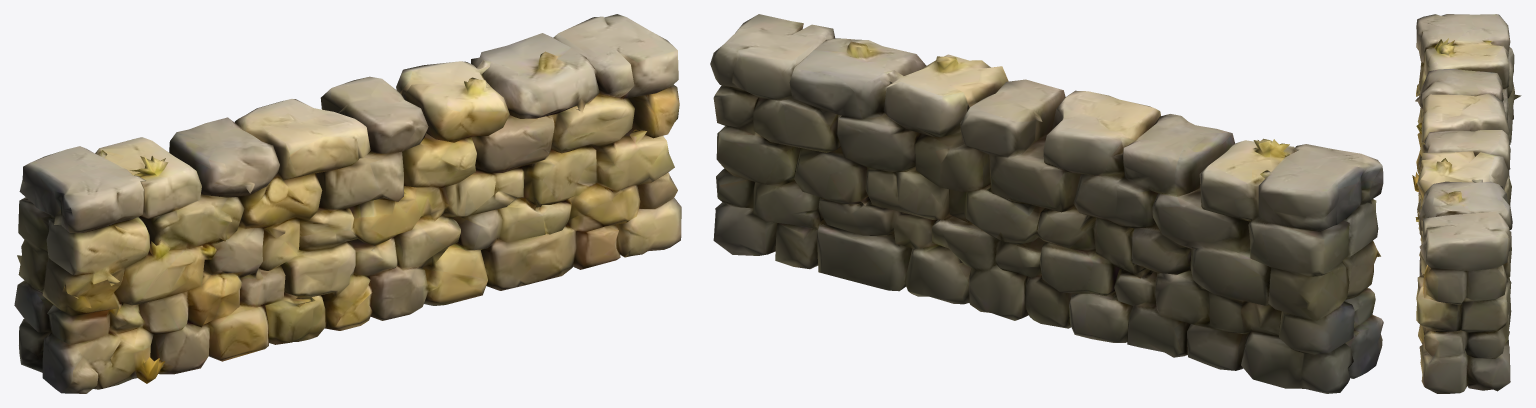
File: wall.glb
3 views of the same model, side by side, from view 1: azimuth 30°, elevation 25°; view 2: azimuth 150°, elevation 25°; view 3: azimuth 270°, elevation 25° (orthographic). The views are drawn at different scales.
Parts seen in each view (by area): view 1: tripo_node_cdea1cba-6e03-4b7f-9dc0-3abe8c072214; view 2: tripo_node_cdea1cba-6e03-4b7f-9dc0-3abe8c072214; view 3: tripo_node_cdea1cba-6e03-4b7f-9dc0-3abe8c072214.
Part boxes in pixels (<box>): tripo_node_cdea1cba-6e03-4b7f-9dc0-3abe8c072214: <box>14,14,681,393</box>; tripo_node_cdea1cba-6e03-4b7f-9dc0-3abe8c072214: <box>710,14,1383,393</box>; tripo_node_cdea1cba-6e03-4b7f-9dc0-3abe8c072214: <box>1412,14,1521,393</box>.
Bounding box in the file's own units: 1 × 0.3254 × 0.1969.
1 material, 1 textured.
